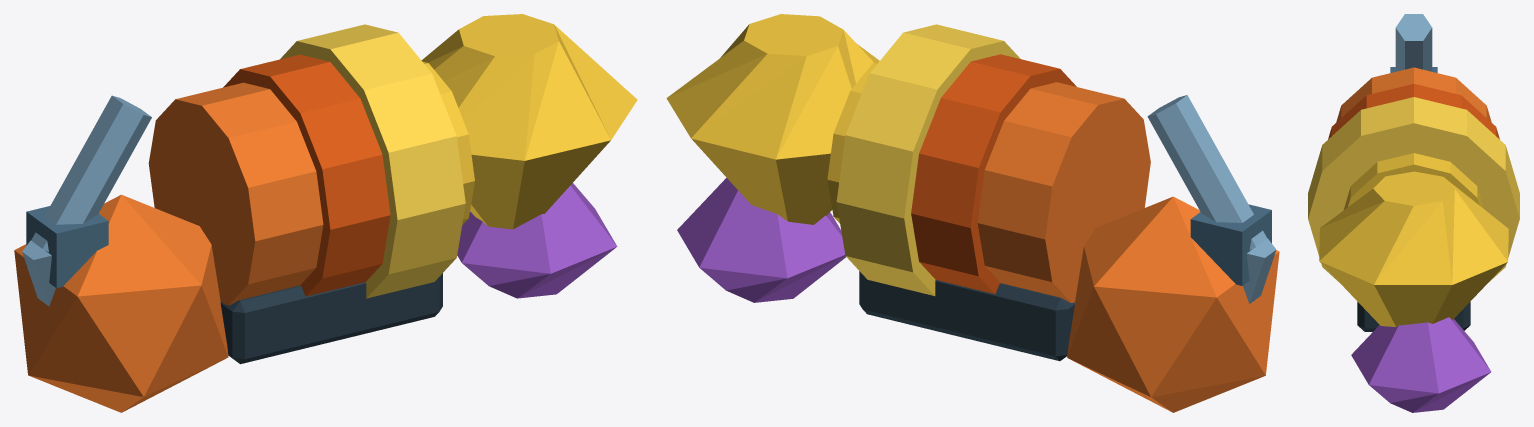
The model's file is kanban_core_structure.glb.
3 views of the same model, side by side, from view 1: azimuth 30°, elevation 25°; view 2: azimuth 150°, elevation 25°; view 3: azimuth 270°, elevation 25° (orthographic). The views are drawn at different scales.
Visible parts, largest first — view 1: kanban_core_structure; view 2: kanban_core_structure; view 3: kanban_core_structure.
Part boxes in pixels (left/top/right/bottom): kanban_core_structure: left=14, top=14, right=637, bottom=412; kanban_core_structure: left=666, top=14, right=1279, bottom=412; kanban_core_structure: left=1308, top=14, right=1519, bottom=412.
Bounding box in the file's own units: 2.92 × 1.51 × 1.16.
